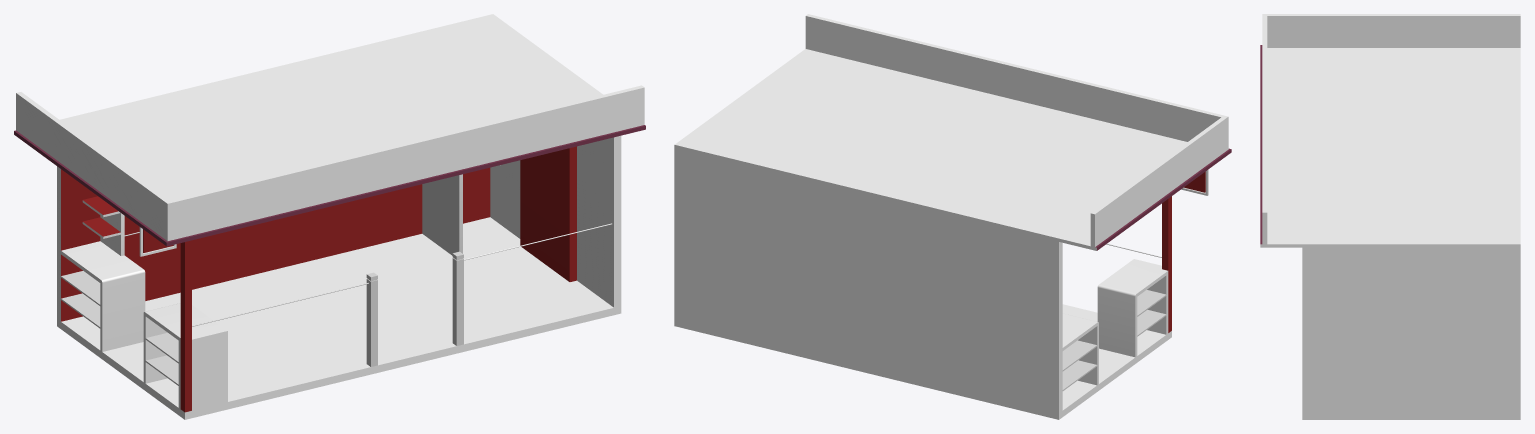
File: store.fbx
The picture shows the model from 3 angles, left to right: view 1: azimuth 30°, elevation 25°; view 2: azimuth 150°, elevation 25°; view 3: azimuth 270°, elevation 25°; orthographic projection. The views are drawn at different scales.
Visible parts, largest first — view 1: Layer0_001, Group_001, Group_010, Group_002, Group_016, Group_023, Group_021, Group_012, Group_013; view 2: Layer0_001, Group_001, Group_010, Group_012, Group_013; view 3: Group_001, Layer0_001.
Boxes of the visible parts, x1,y1,x2,y2 form: Layer0_001: (57,135,621,419); Group_001: (14,14,645,246); Group_010: (61,196,145,351); Group_002: (520,146,576,281); Group_016: (422,174,462,255); Group_023: (452,251,463,345); Group_021: (366,272,377,366); Group_012: (61,271,100,305); Group_013: (61,293,100,328); Layer0_001: (674,148,1171,419); Group_001: (674,14,1231,250); Group_010: (1062,313,1098,385); Group_012: (1062,340,1097,371); Group_013: (1062,360,1097,390); Group_001: (1260,14,1520,247); Layer0_001: (1302,247,1520,419).
Size of the model in its own units: 264 by 128 by 146.
